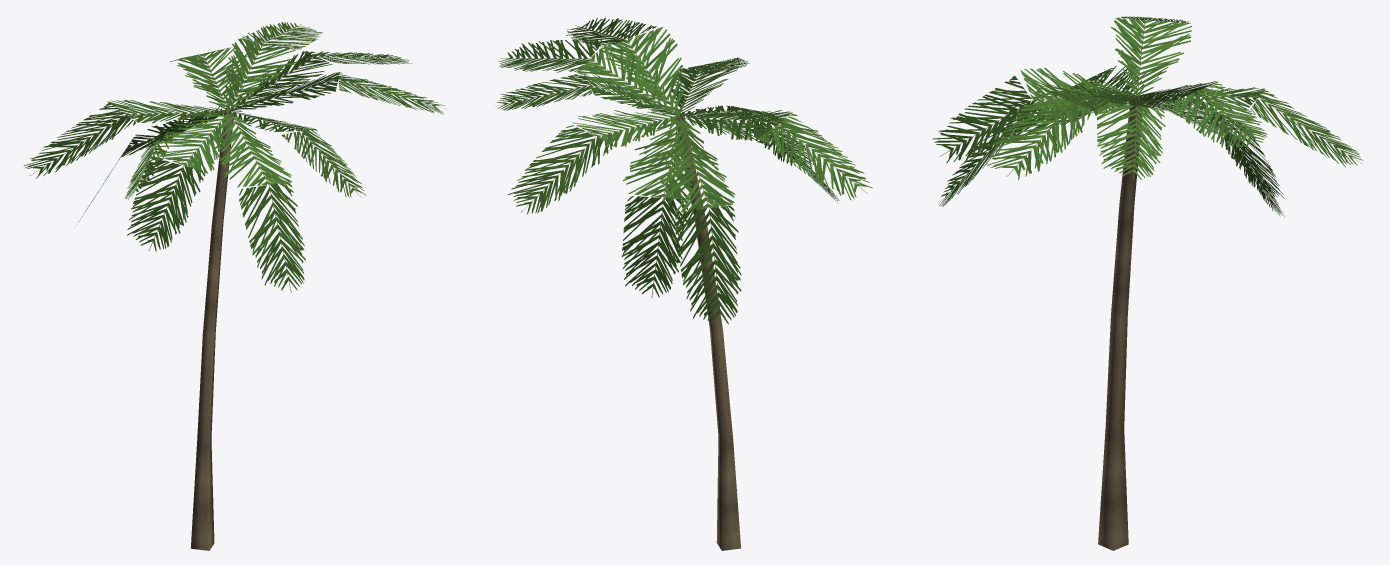
The model's file is mid.glb.
3 views of the same model, side by side, from view 1: azimuth 30°, elevation 25°; view 2: azimuth 150°, elevation 25°; view 3: azimuth 270°, elevation 25° (orthographic). The views are drawn at different scales.
Visible parts, largest first — view 1: palm_05; view 2: palm_05; view 3: palm_05.
Boxes of the visible parts, left/top/right/bottom form: palm_05: left=24, top=22, right=444, bottom=550; palm_05: left=496, top=17, right=872, bottom=550; palm_05: left=932, top=16, right=1363, bottom=550.
Size of the model in its own units: 11.39 by 13.29 by 10.61.
2 materials, 2 textured.
